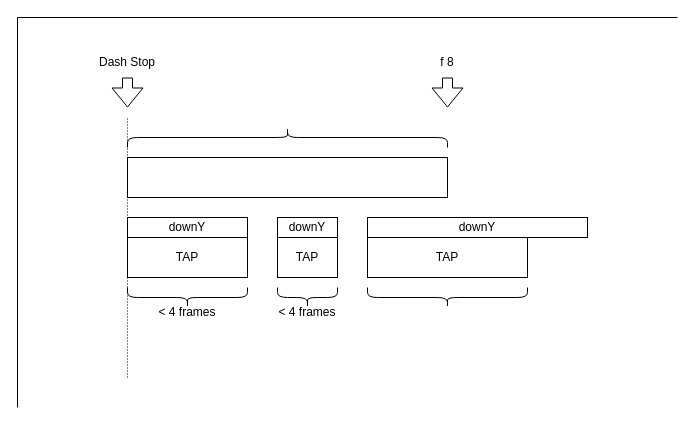
Image size: 696x426. Some labels were removed from this diagram. The shapes that lost their labels are listed below. From the top down, each one's centre as x and y in pixels, then its label:
point 287,137: 8 frames
point 287,177: EXTEND
point 447,297: 4 frames
